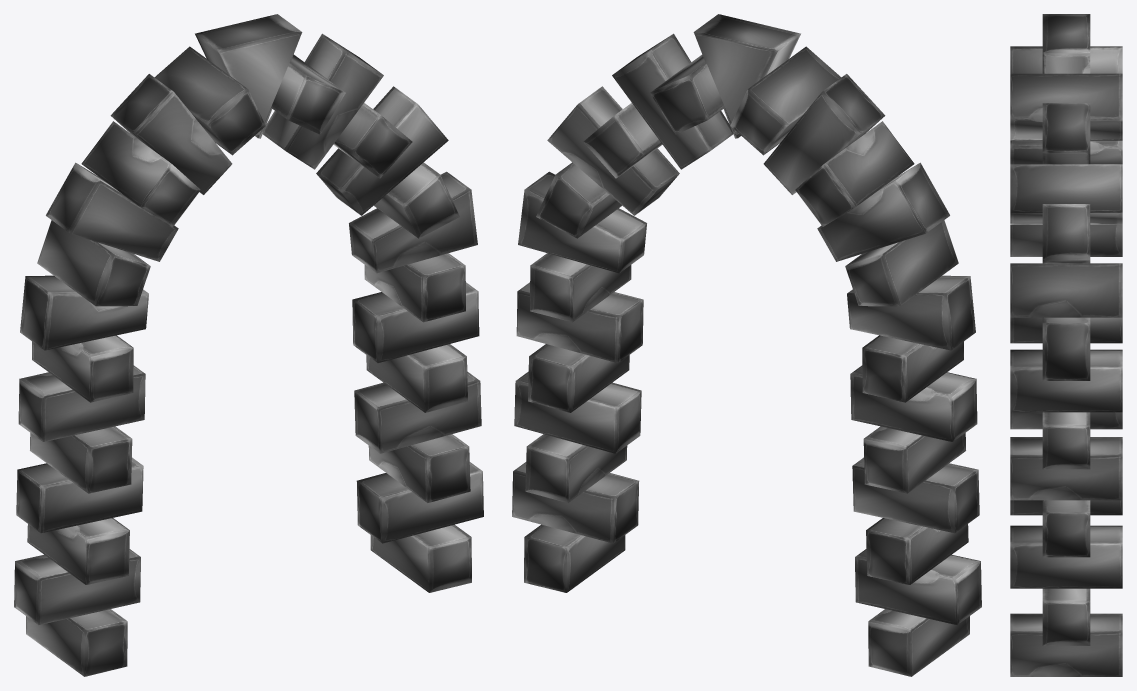
File: arch_3.fbx
The picture shows the model from 3 angles, left to right: view 1: azimuth 30°, elevation 25°; view 2: azimuth 150°, elevation 25°; view 3: azimuth 270°, elevation 25°; orthographic projection. The views are drawn at different scales.
Parts seen in each view (by area): view 1: arch_3; view 2: arch_3; view 3: arch_3.
Boxes of the visible parts, x1,y1,x2,y2 form: arch_3: (14, 14, 483, 676); arch_3: (512, 14, 981, 676); arch_3: (1010, 14, 1122, 676).
Size of the model in its own units: 4.65 by 5.75 by 1.06.
